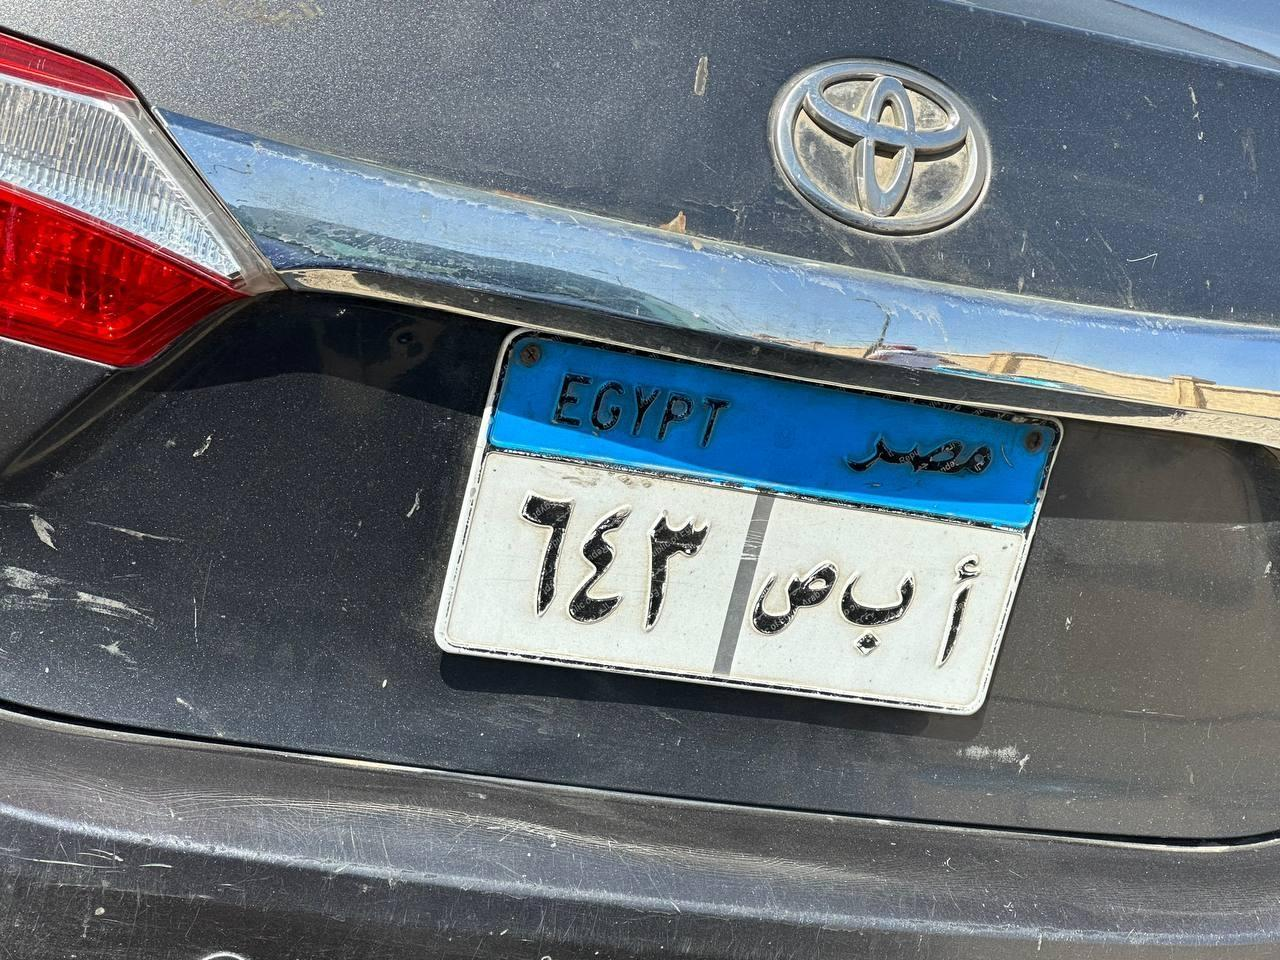3: (644, 520, 710, 635)
4: (558, 510, 634, 624)
6: (510, 477, 575, 612)
License Plate: (430, 310, 1069, 727)
Saad: (740, 543, 837, 642)
alef: (934, 545, 982, 679)
baa: (840, 562, 920, 659)
